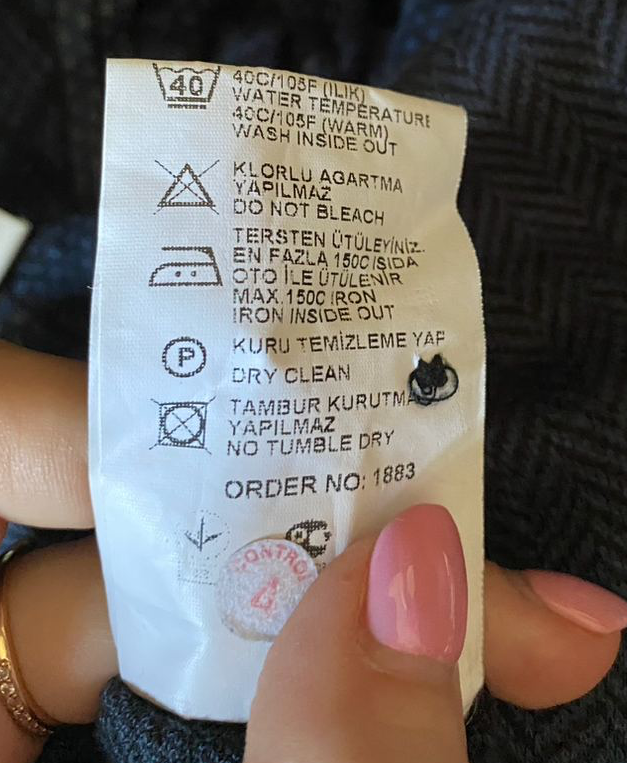do_not_bleach: (151, 152, 226, 220)
do_not_tumble_drying: (142, 392, 222, 456)
dry_clean_tetrachloroethylene_pce_only: (158, 331, 210, 378)
ironing_at_med_temp: (143, 239, 231, 292)
wash_at_or_below_40_mild_fine_wash: (147, 60, 228, 113)
